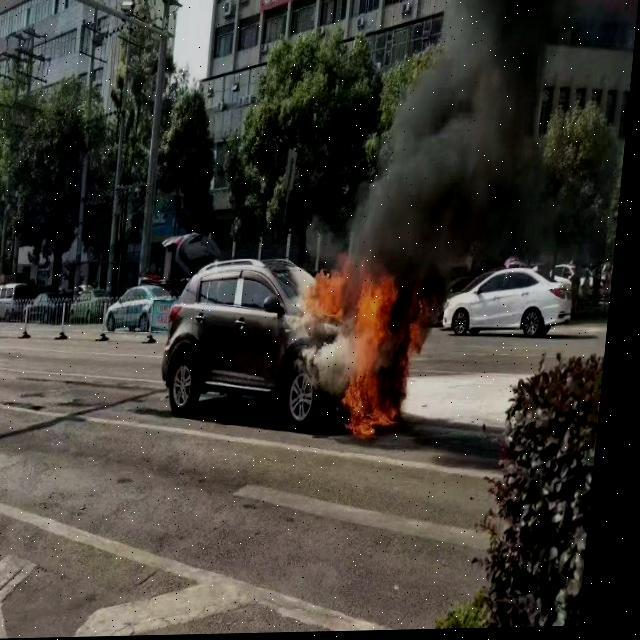Fire: (306, 251, 444, 451)
